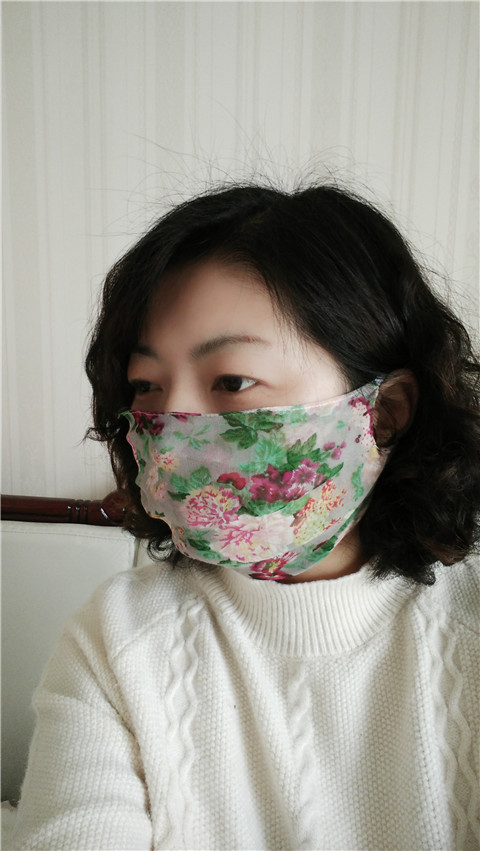face_mask: (126, 241, 334, 571)
